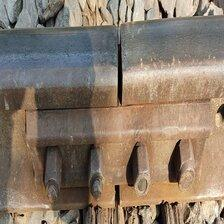railway-gap: (50, 0, 189, 131)
